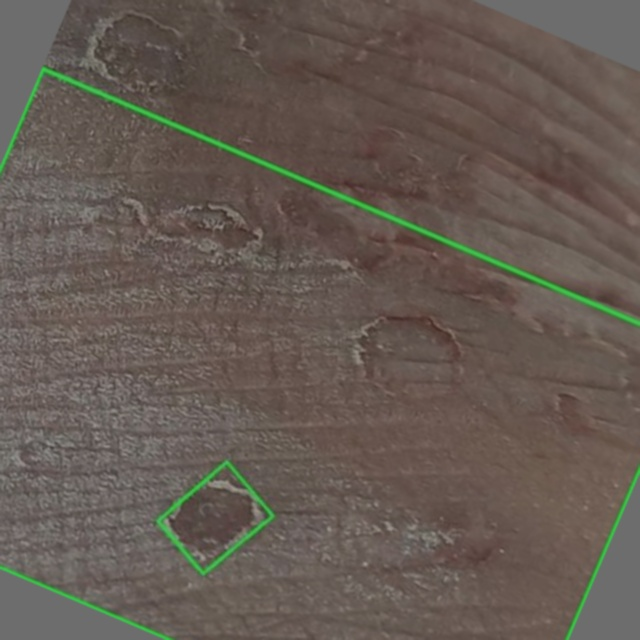Contact Dermatitis: (0, 67, 639, 639), (157, 461, 272, 573)
